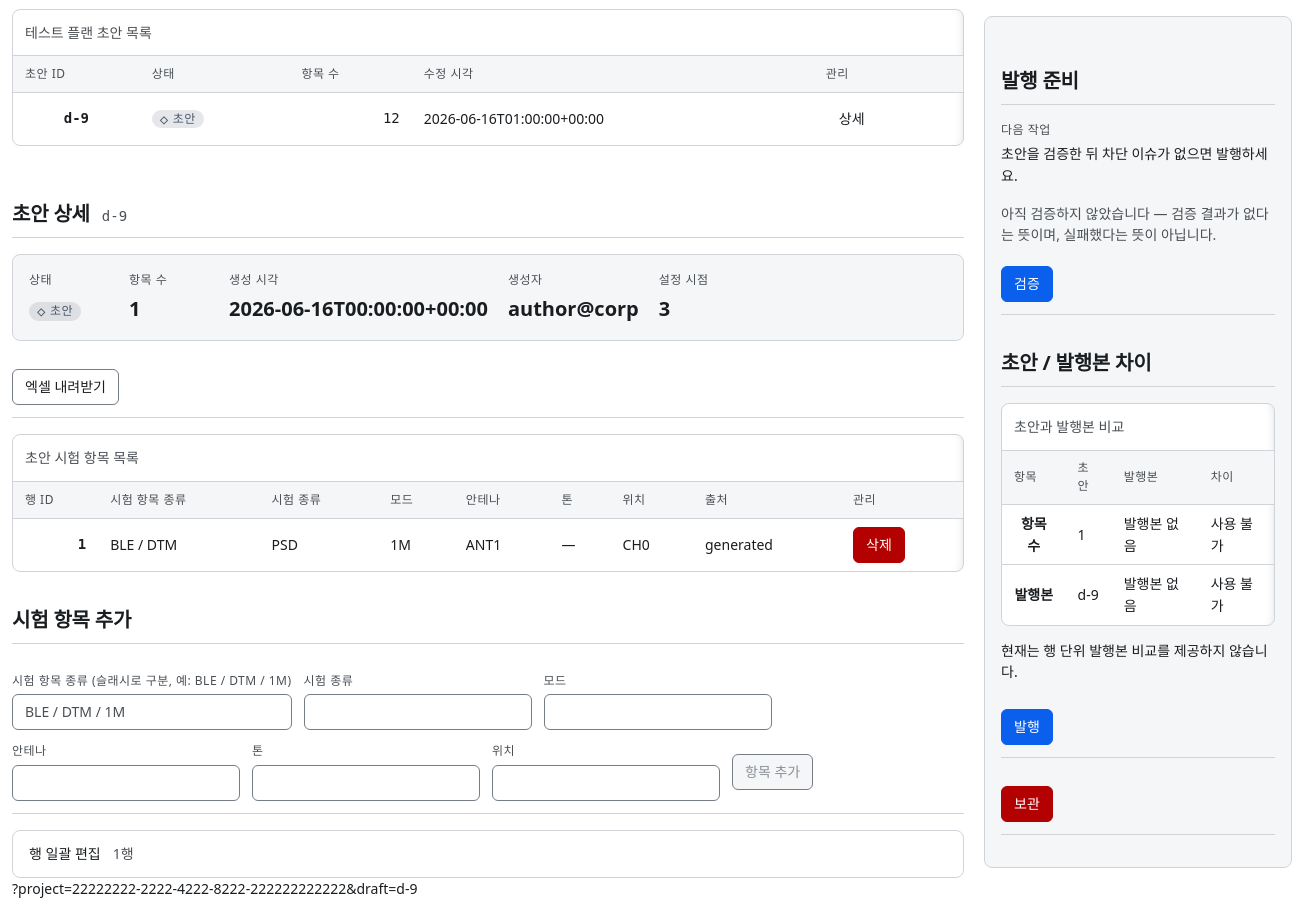
Test: TestPlansRoute › publishes a DRAFT and surfaces the published plan_id
(page scrolled)
Click the button with test id "test-plans-publish" at (1027,727), box [1001, 709, 1053, 745]
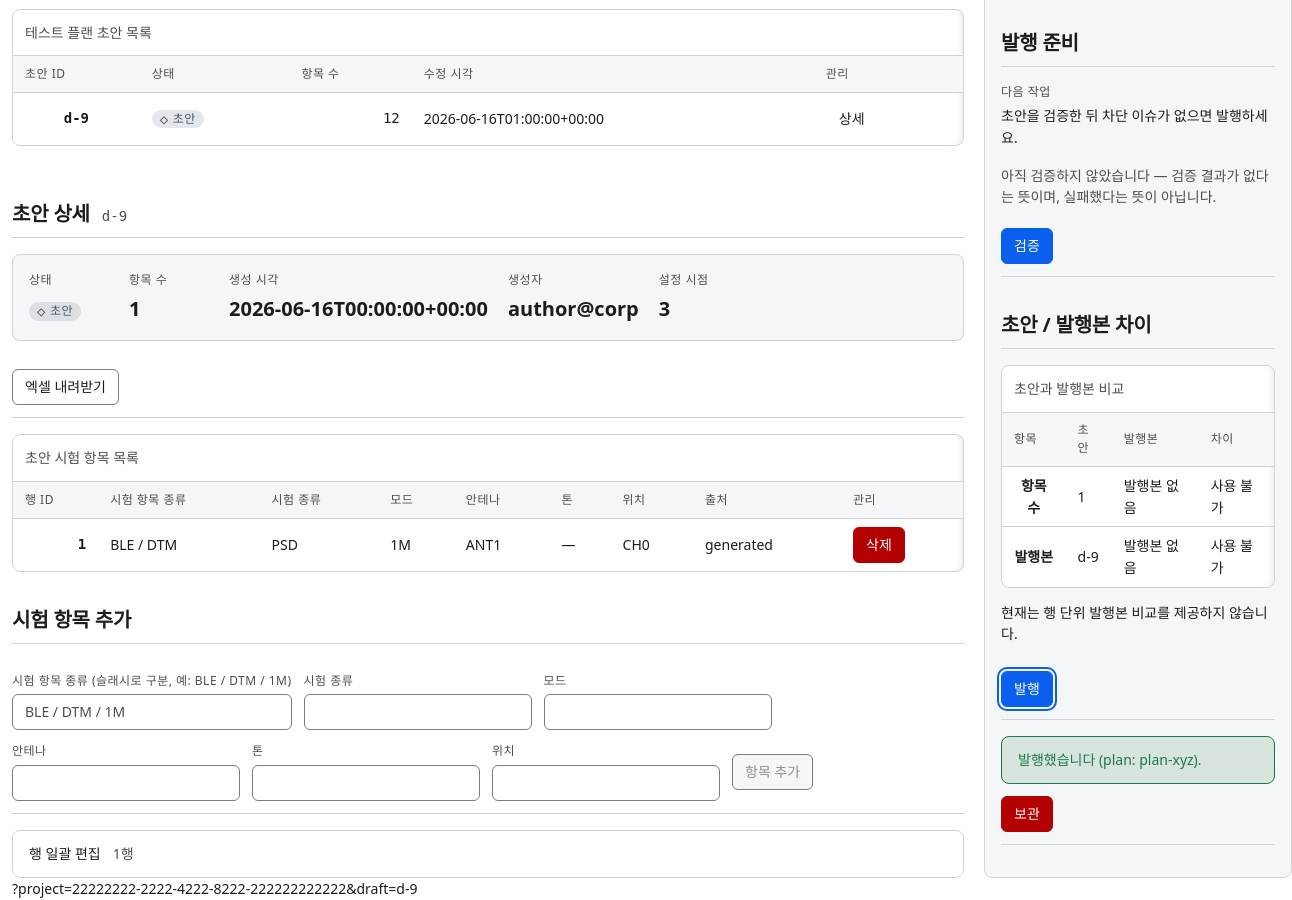
Check: the message "발행했습니다 (plan: plan-xyz)." is shown, box [1001, 736, 1275, 784]
Check: the message with test id "test-plans-publish-success" shows "plan-xyz", box [1018, 750, 1202, 769]
